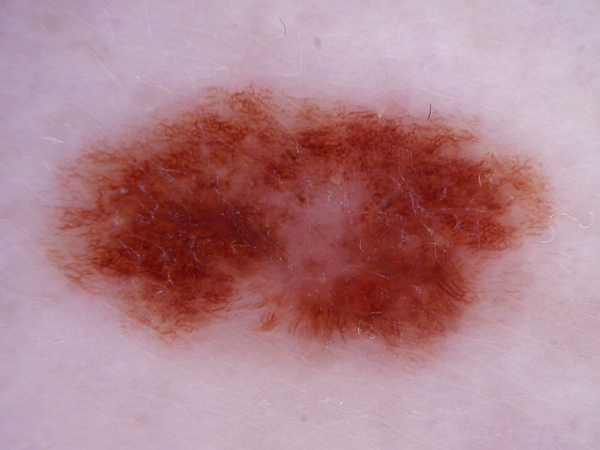Detected Lesion: (36, 69, 563, 365)
